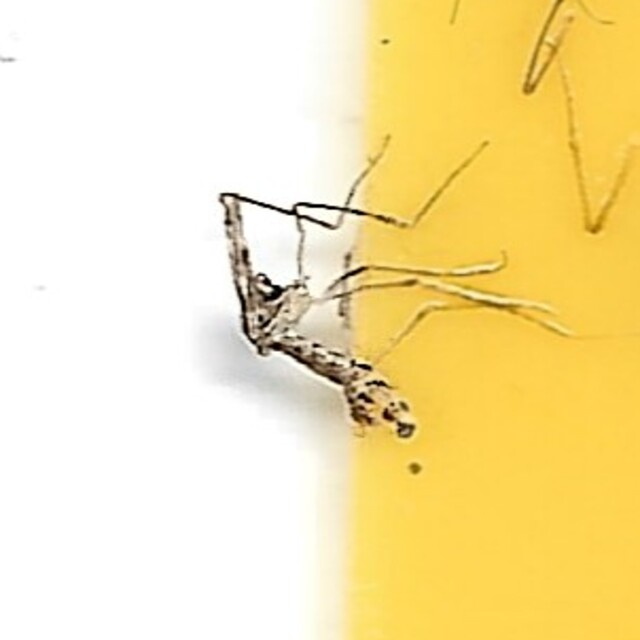Nematocera: (212, 184, 428, 456)
